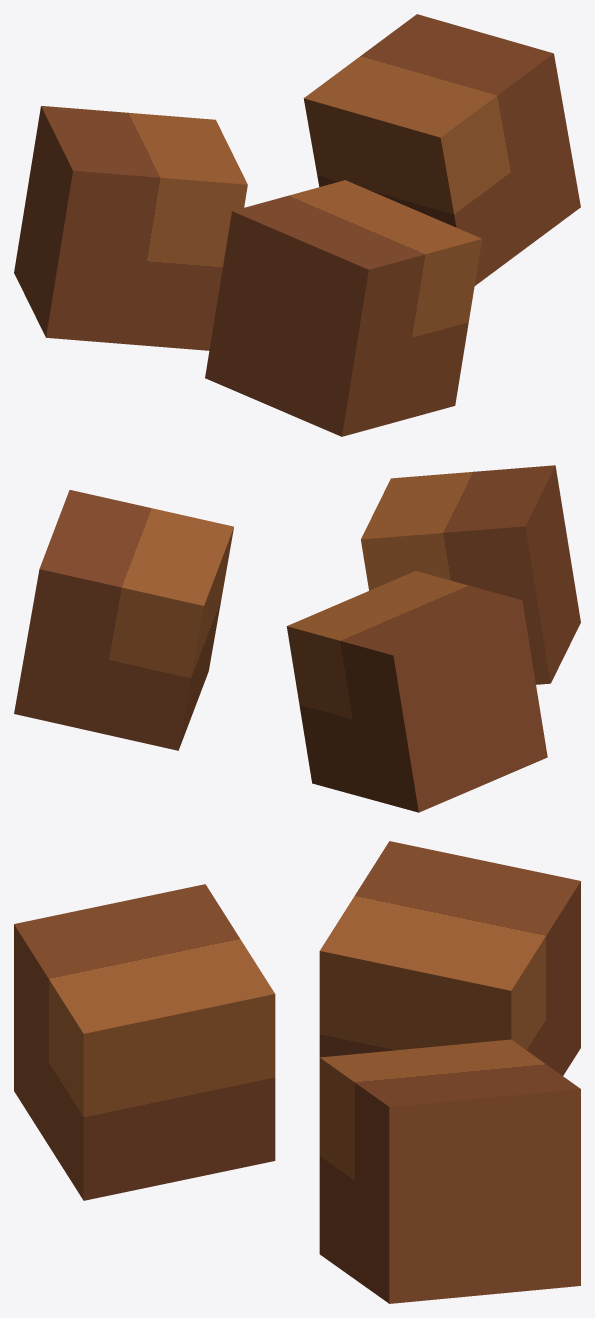
Rendered from cranberry-seeds.gltf.
3 renders of one model, top to bottom at view 1: azimuth 30°, elevation 25°; view 2: azimuth 150°, elevation 25°; view 3: azimuth 270°, elevation 25°, orthographic. The views are drawn at different scales.
Visible parts, largest first — view 1: cube; view 2: cube; view 3: cube.
Boxes of the visible parts, x1,y1,x2,y2 form: cube: [14, 14, 580, 436]; cube: [14, 465, 580, 812]; cube: [14, 841, 580, 1303].
Size of the model in its own units: 0.4295 by 0.1509 by 0.3477.
1 material, 1 textured.
